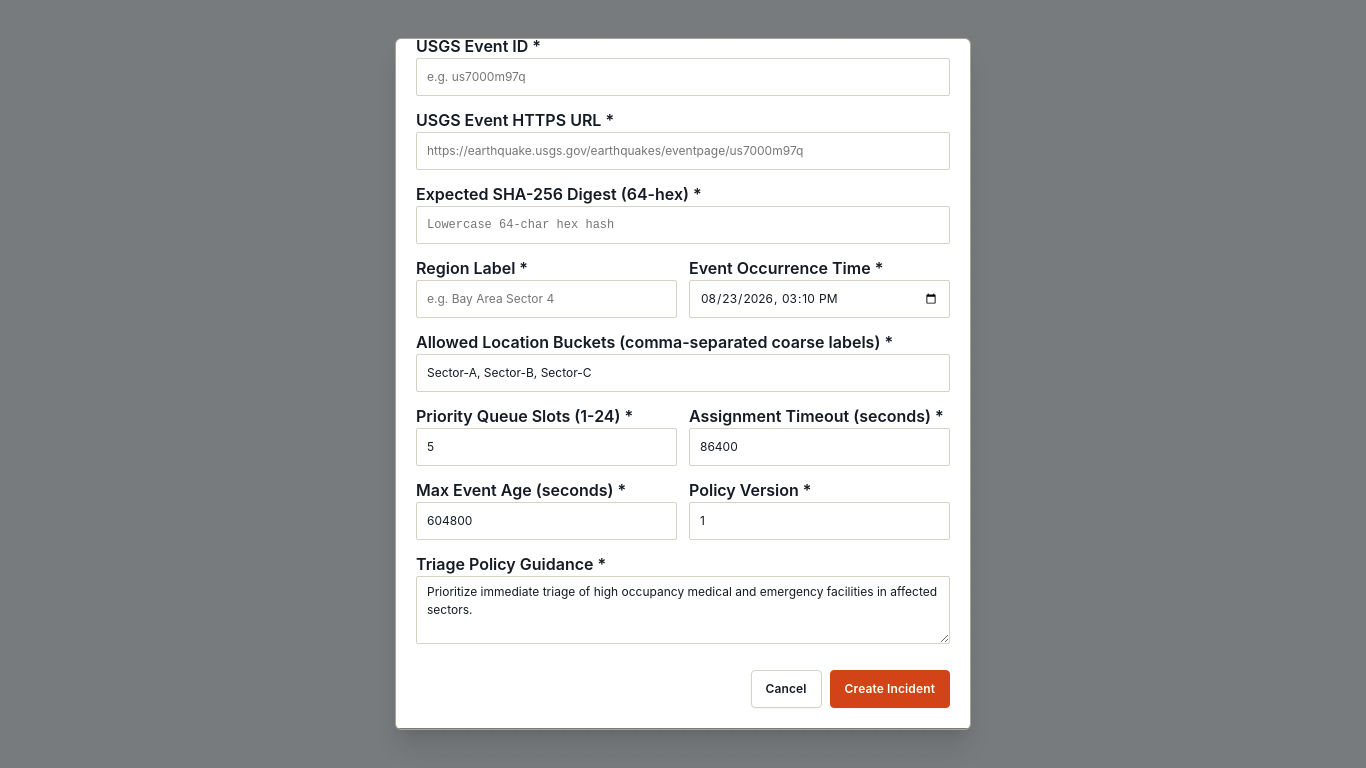
Test: UI Components, Role Gating, and Modal Validation › CreateIncidentModal validates HTTPS USGS URL and 64-hex SHA-256 digest
(page scrolled)
Click the button "Create Incident" at [890, 689], box [830,670,950,708]
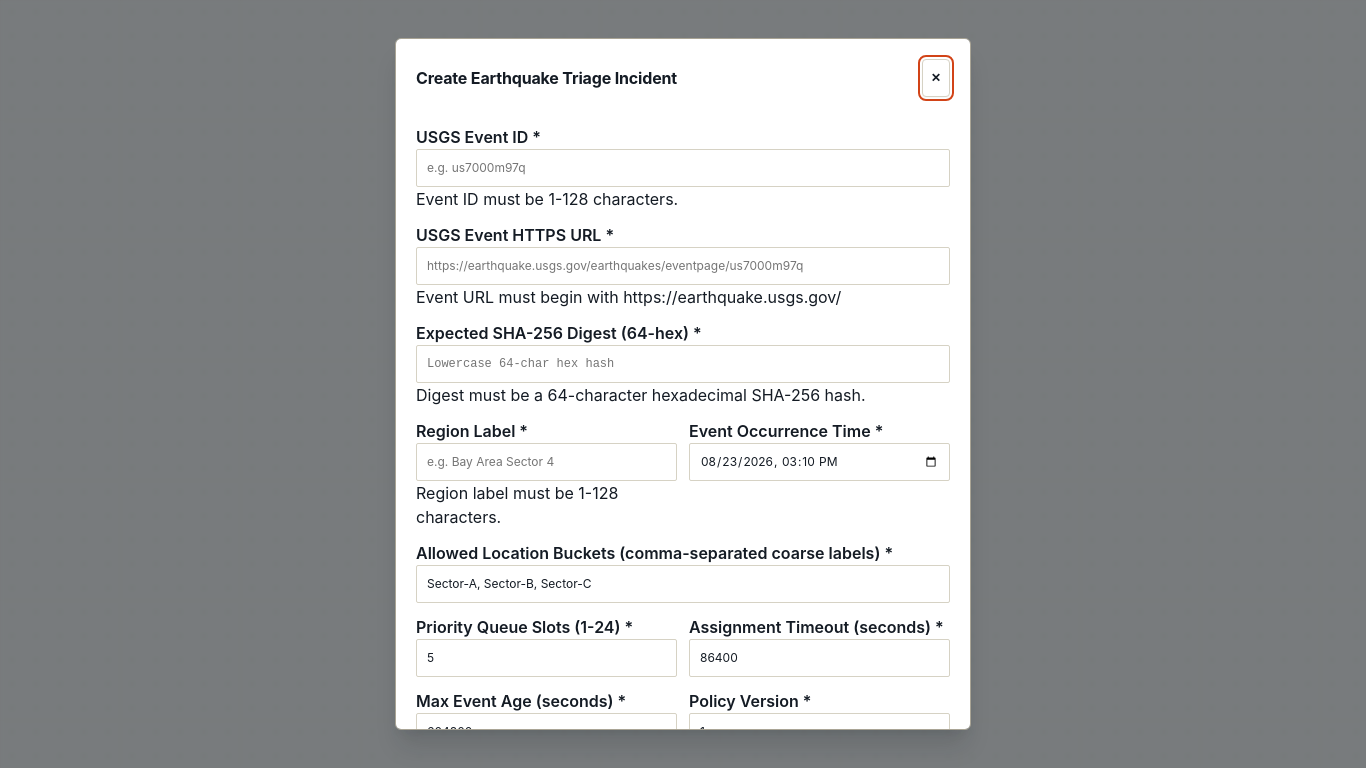
Now the text "Event ID must be 1-128 characters." is shown, box [416,189,678,209]
Now the text "Event URL must begin with https://earthquake.usgs.gov/" is shown, box [416,287,841,307]
Now the text "Digest must be a 64-character hexadecimal SHA-256 hash." is shown, box [416,385,866,405]
